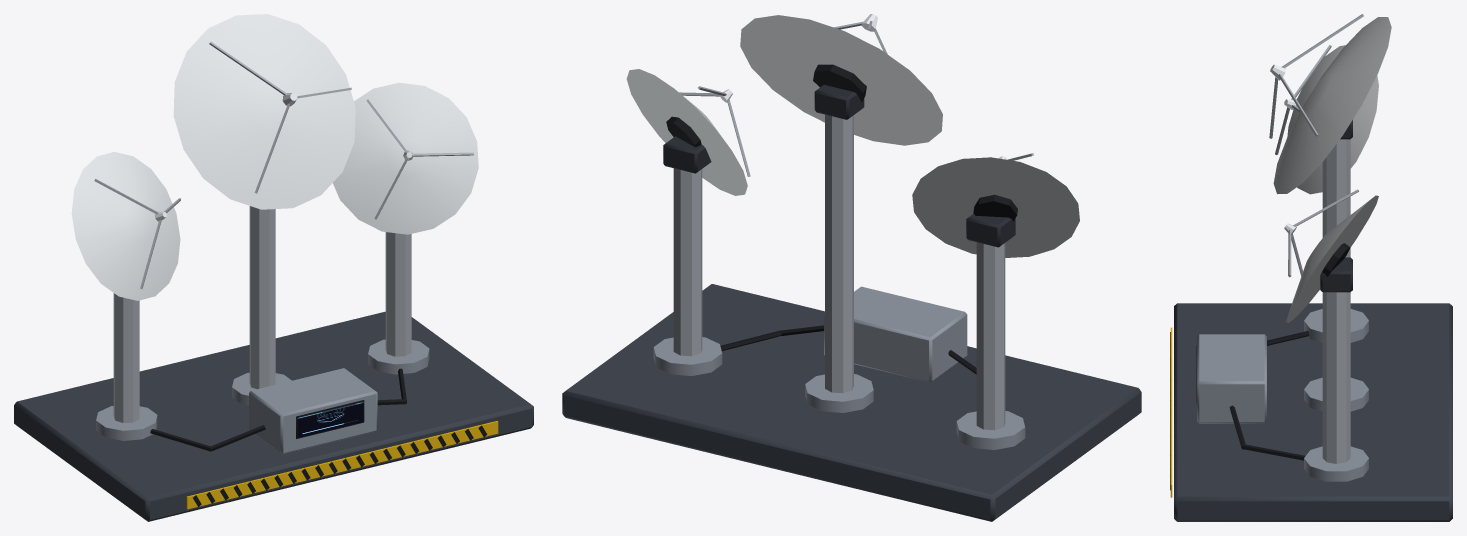
Rendered from antenna_dish_array_demo.glb.
3 renders of one model, left to right at view 1: azimuth 30°, elevation 25°; view 2: azimuth 150°, elevation 25°; view 3: azimuth 270°, elevation 25°, orthographic. The views are drawn at different scales.
Parts seen in each view (by area): view 1: antenna_dish_array_demo; view 2: antenna_dish_array_demo; view 3: antenna_dish_array_demo.
Part boxes in pixels (x1,y1,x2,y2): antenna_dish_array_demo: (14,14,533,521); antenna_dish_array_demo: (562,14,1141,521); antenna_dish_array_demo: (1170,14,1452,521).
Size of the model in its own units: 2.07 by 1.89 by 1.22.
Materials: 9 (1 with a texture image).
